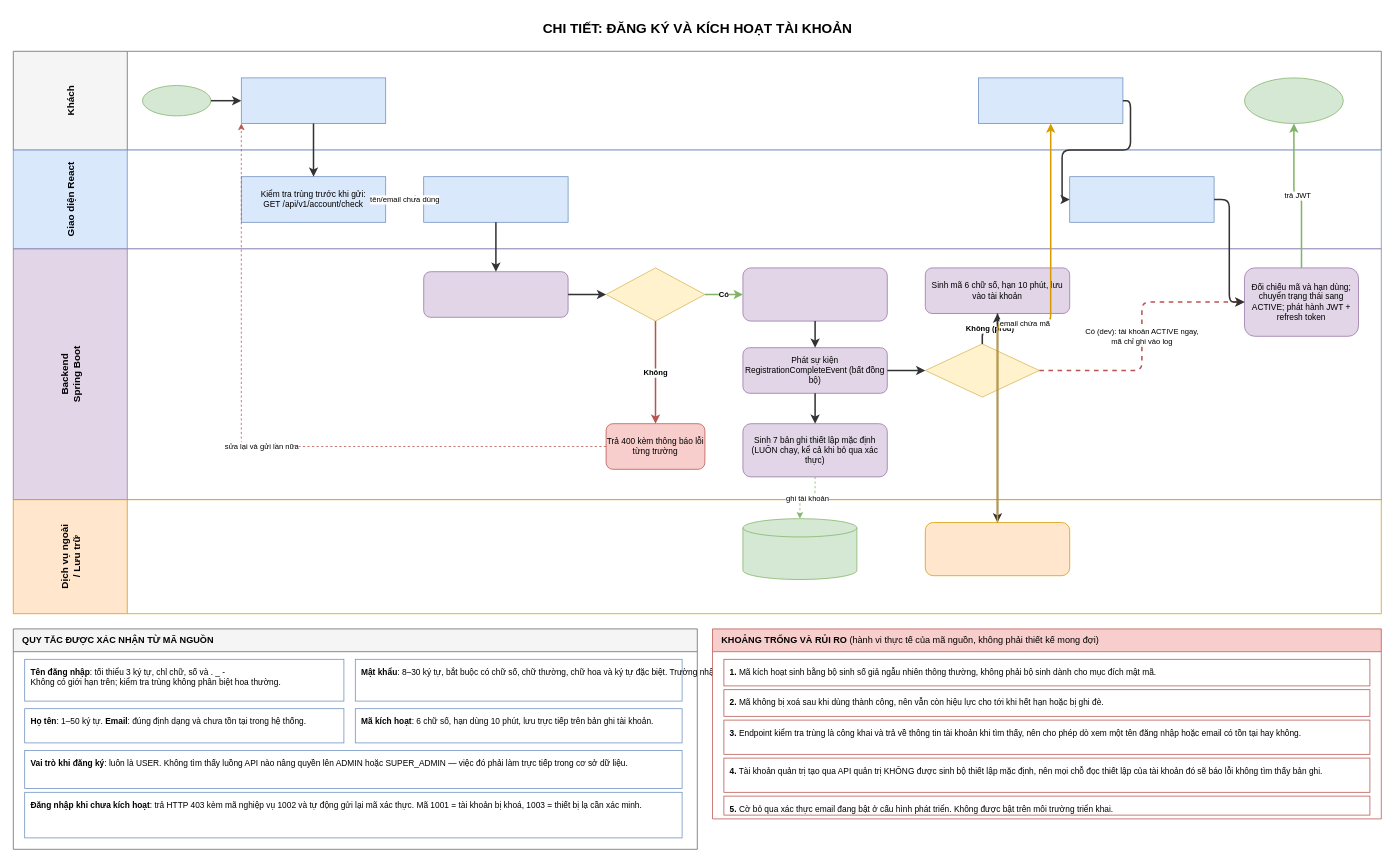
Some shapes in this 1395 by 863 pixel diagram are drawn without their labels. The centre of each missing label's shape, as x and y in pixels:
"Bắt đầu" goes at pixel 176 100.
"Bỏ qua xác thực email? (bypass)" goes at pixel 982 370.
"Gửi email qua Microsoft Graph /me/sendMail" goes at pixel 997 549.
"Gửi POST /api/v1/account/active (kèm mã)" goes at pixel 1141 199.
"Gửi POST /api/v1/registration" goes at pixel 495 199.
"Hợp lệ?" goes at pixel 655 294.
"Kiểm tra ràng buộc đầu vào (4 annotation tuỳ biến)" goes at pixel 495 294.
"Nhận email và nhập mã 6 số" goes at pixel 1050 100.
"PostgreSQL (Supabase)" goes at pixel 799 549.
"Tạo tài khoản: vai trò USER, mật khẩu băm BCrypt, trạng thái STILL_NOT_ACTIVE" goes at pixel 814 294.
"Điền biểu mẫu: email, tên đăng nhập, họ tên, mật khẩu, nhập lại mật khẩu" goes at pixel 313 100.
"Đăng nhập được" goes at pixel 1293 100.
